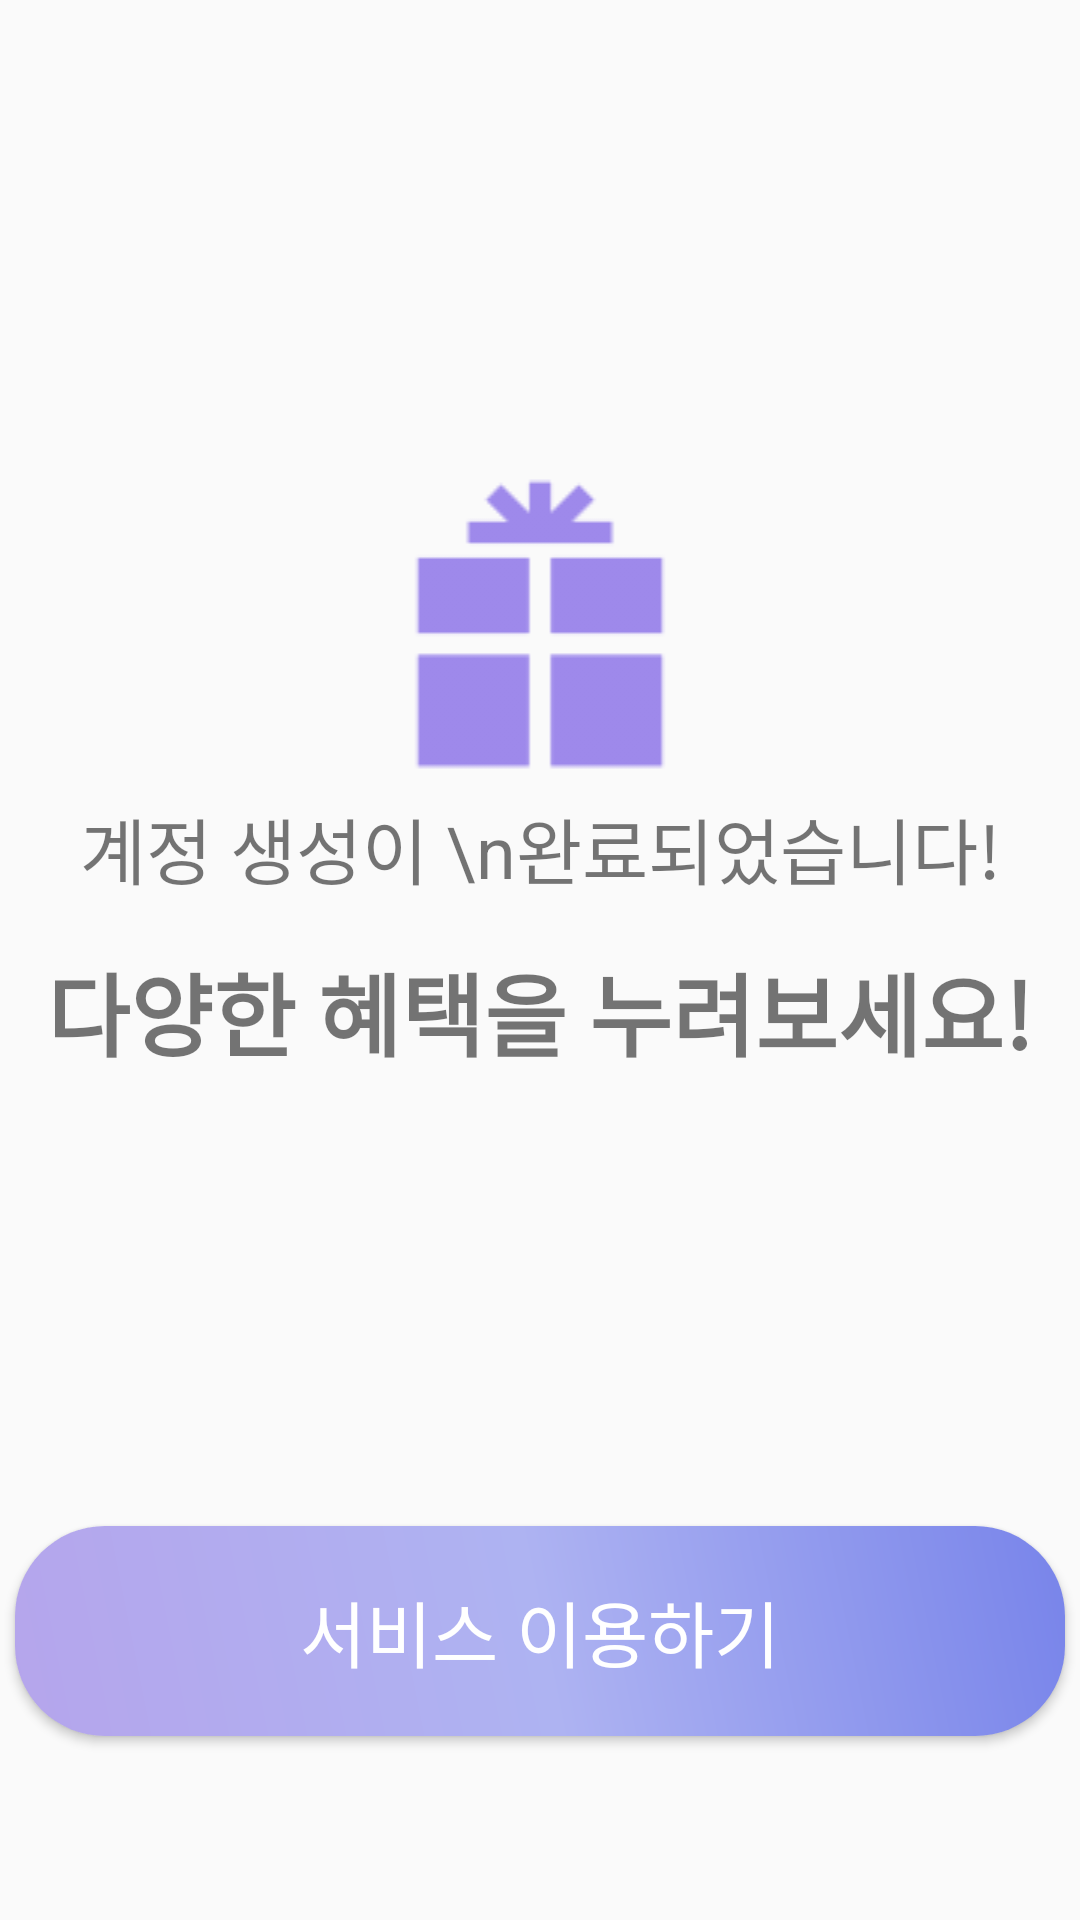

Icon bounding boxes for this 1080 × 1920 phone screenshot, format (x1, y1, x2, y2):
giftbox: (417, 481, 663, 768)
